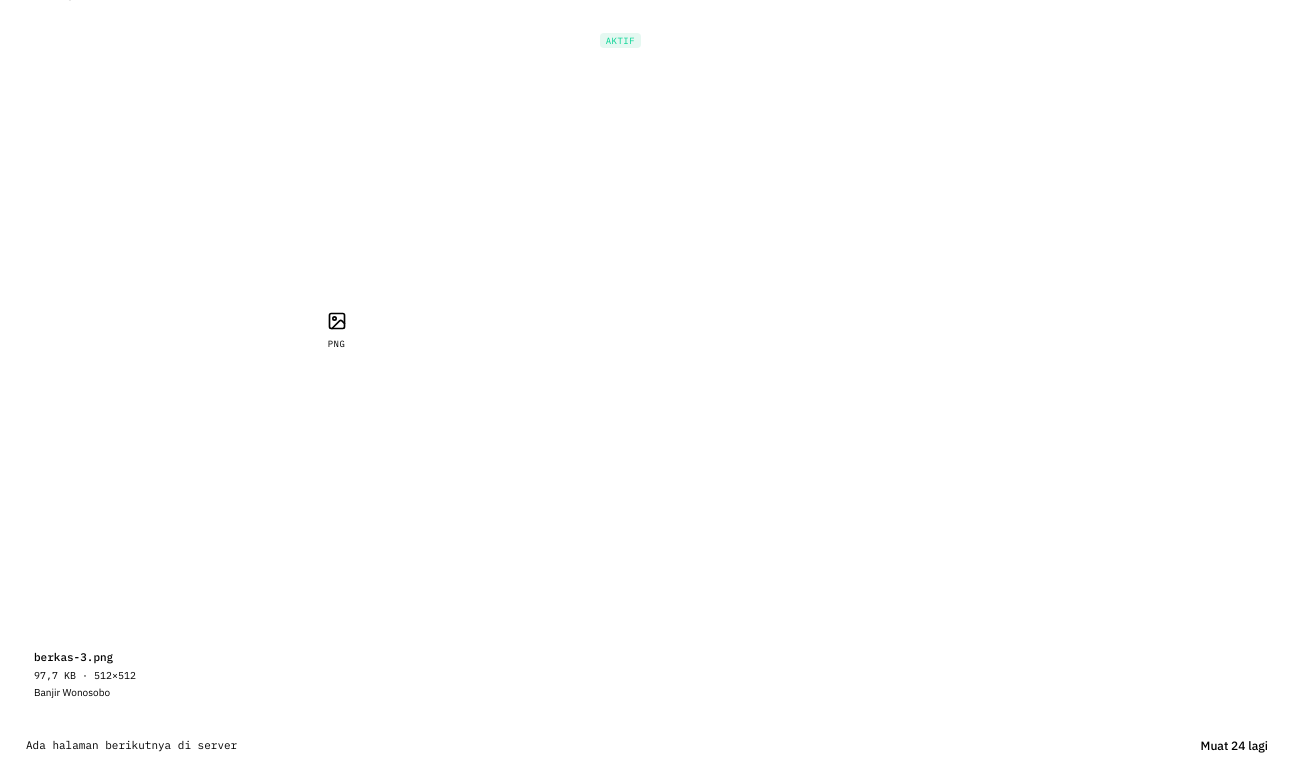
it: MediaLibrary › memuat halaman berikutnya dari server dan menambahkannya
(page scrolled)
Click the button "Muat 24 lagi".
click(1234, 746)  # box [1191,732,1278,760]
(page scrolled)
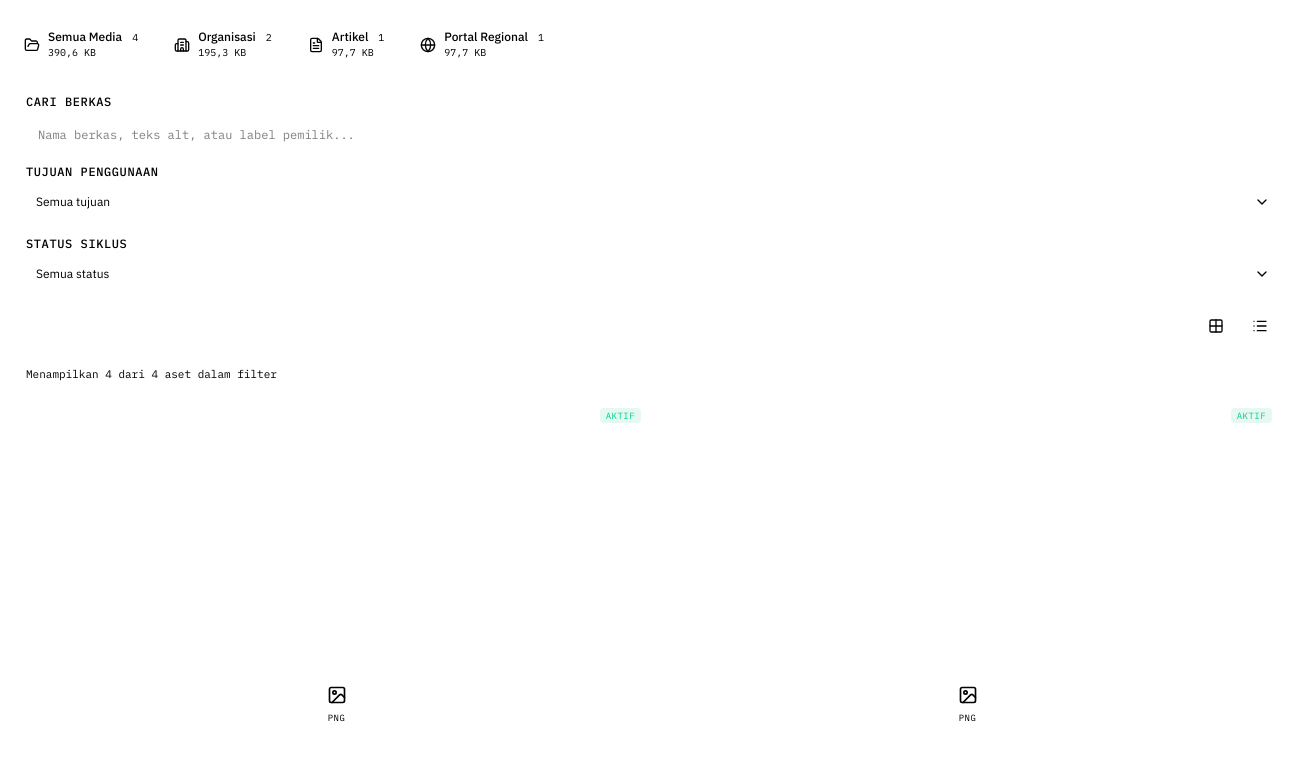
Check: the text "Menampilkan 4 dari 4 aset dalam filter" is shown, box [26,366,277,382]
